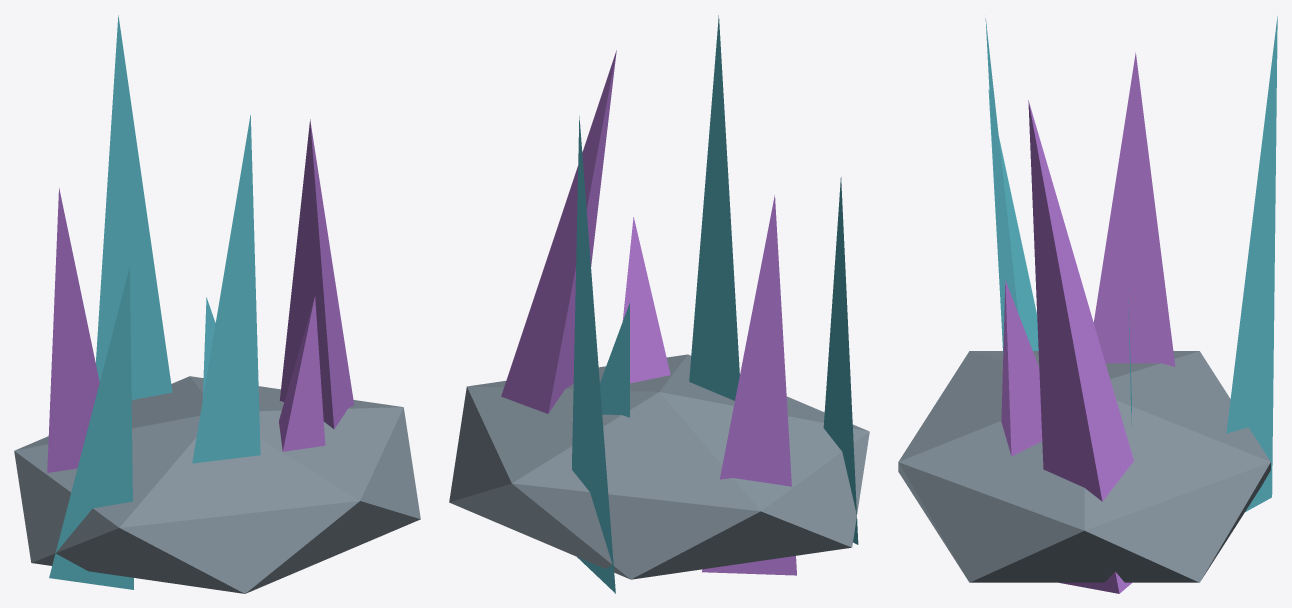
Rendered from Crystal_03_LOD1.fbx.
3 views of the same model, side by side, from view 1: azimuth 30°, elevation 25°; view 2: azimuth 150°, elevation 25°; view 3: azimuth 270°, elevation 25° (orthographic). The views are drawn at different scales.
Visible parts, largest first — view 1: Crystal_03_LOD1; view 2: Crystal_03_LOD1; view 3: Crystal_03_LOD1.
Part boxes in pixels (left/top/right/bottom): Crystal_03_LOD1: left=14, top=15, right=420, bottom=593; Crystal_03_LOD1: left=449, top=15, right=869, bottom=593; Crystal_03_LOD1: left=898, top=16, right=1277, bottom=593.
Bounding box in the file's own units: 161 × 199 × 130.
